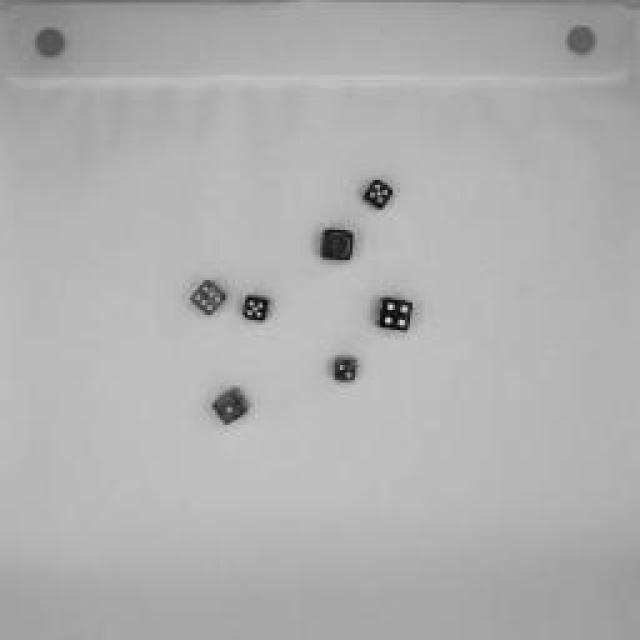dice_1: (209, 385, 256, 430), (315, 224, 360, 266)
dice_2: (328, 351, 362, 389)
dice_4: (374, 292, 416, 338)
dice_5: (360, 176, 400, 214), (239, 290, 276, 328)
dice_6: (182, 275, 232, 320)
